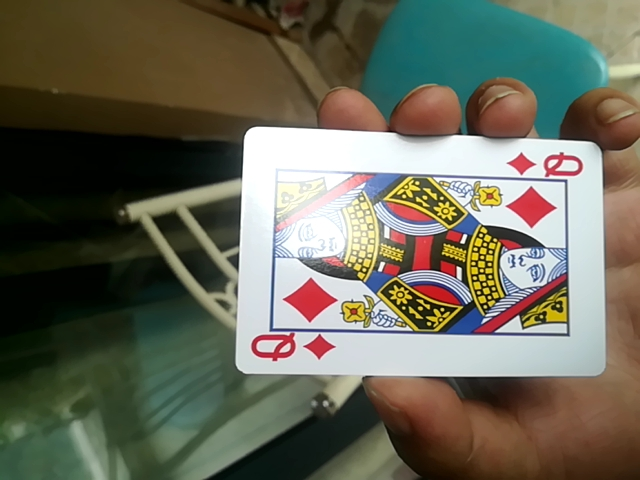fk q: (228, 123, 609, 380)
